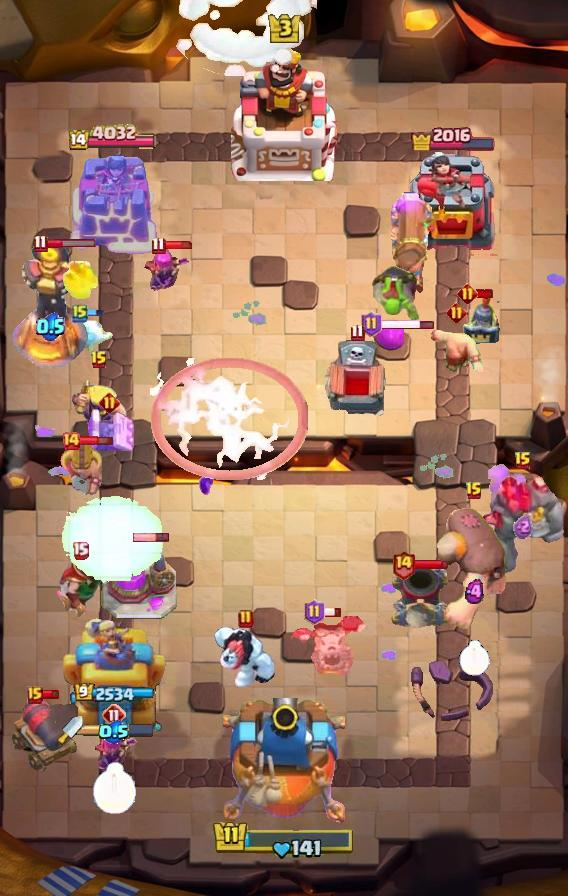archer: (429, 322, 483, 372)
arrows: (68, 375, 130, 431)
balloon: (436, 492, 512, 632)
bar: (61, 615, 166, 731)
bar-level: (370, 263, 420, 323)
barbarian-evolution: (150, 358, 308, 480)
bat: (66, 317, 114, 355)
battle-healer: (390, 192, 436, 296)
cannoneer-tower: (482, 473, 564, 575)
clock: (212, 819, 356, 861)
electro-dragon: (11, 243, 89, 371)
electro-spirit: (36, 311, 64, 340), (98, 720, 130, 744), (464, 579, 484, 605), (513, 514, 533, 539)
elixir: (91, 761, 136, 814), (459, 640, 489, 676)
elixir-golem-mid: (322, 339, 392, 425)
emote: (381, 317, 436, 330), (47, 238, 98, 249), (78, 433, 114, 446), (413, 559, 449, 571), (134, 532, 171, 543), (163, 240, 195, 250), (322, 606, 342, 618), (477, 288, 496, 300), (86, 306, 106, 317), (40, 689, 59, 700)
evolution-symbol: (87, 719, 141, 777), (141, 242, 191, 298)
goblin-brawler: (83, 405, 135, 455)
goblin-giant: (60, 440, 104, 498)
king-tower: (223, 698, 345, 826), (231, 43, 337, 181)
king-tower-bar: (83, 723, 155, 737)
mega-knight: (60, 494, 166, 587)
miner: (372, 321, 404, 351)
mini-pekka: (289, 616, 369, 678)
musketeer: (388, 563, 452, 629)
pekka: (101, 539, 179, 621)
princess: (462, 291, 506, 351)
queen-tower: (408, 152, 498, 256), (69, 154, 159, 256)
rage: (213, 625, 279, 689)
royal-giant-evolution: (10, 698, 78, 772)
selected: (69, 124, 159, 153), (411, 125, 498, 152), (73, 684, 154, 705)
skeleton-king: (48, 551, 112, 619)
text: (392, 548, 417, 579), (102, 703, 126, 727), (362, 311, 383, 337), (304, 599, 325, 625), (458, 283, 479, 305), (99, 392, 121, 413), (446, 301, 467, 322), (61, 431, 81, 451), (90, 350, 108, 370), (514, 451, 532, 471), (465, 481, 483, 501), (71, 540, 89, 559), (72, 303, 88, 323), (238, 609, 254, 629), (27, 686, 43, 704), (33, 234, 48, 253), (351, 323, 366, 342), (151, 237, 165, 256)
valkyrie: (57, 261, 103, 303)
wall-breaker: (165, 0, 317, 76)
